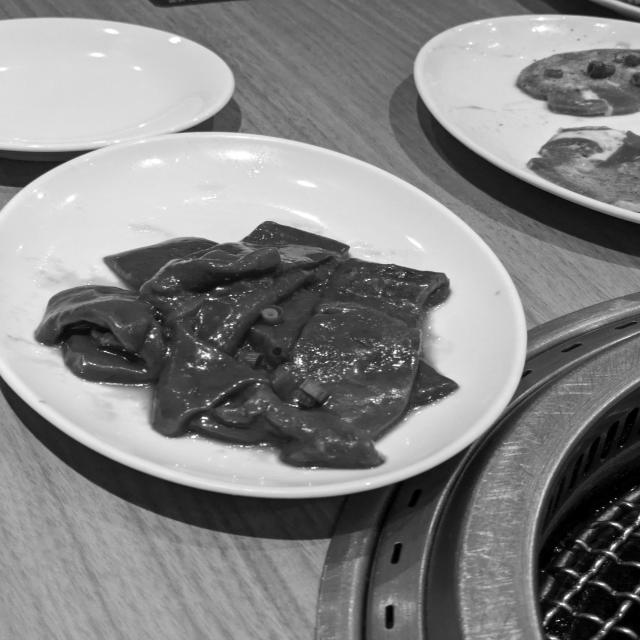NG raw beef,: (265, 300, 423, 449), (513, 123, 640, 225), (501, 39, 640, 120)
